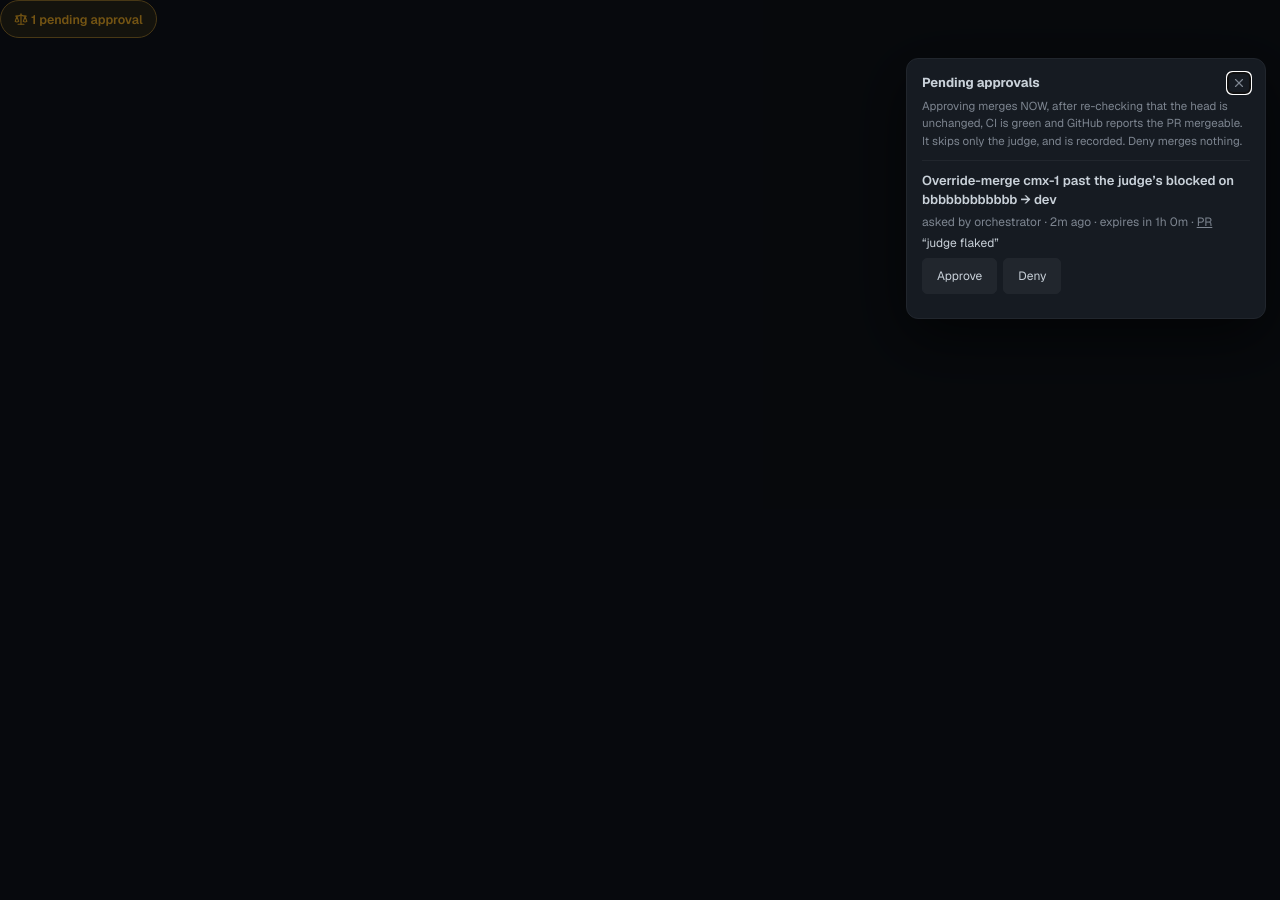
Test: a refusal {"ok":false,"error":"not found"} reads not found
Click the button "Deny".
click(1032, 276)  # box [1003,258,1061,294]
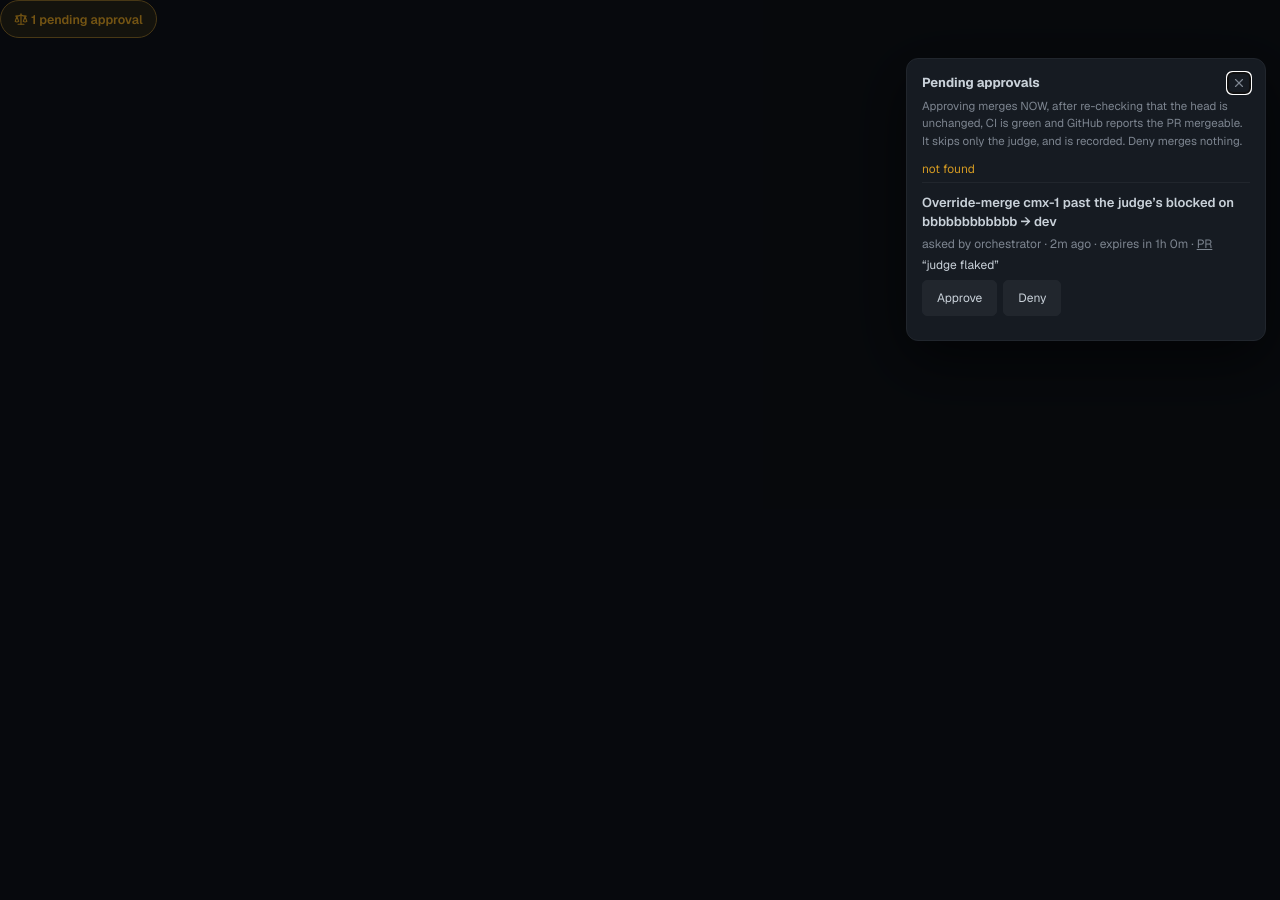
Now the message "not found" is shown, box [922,161,975,177]
